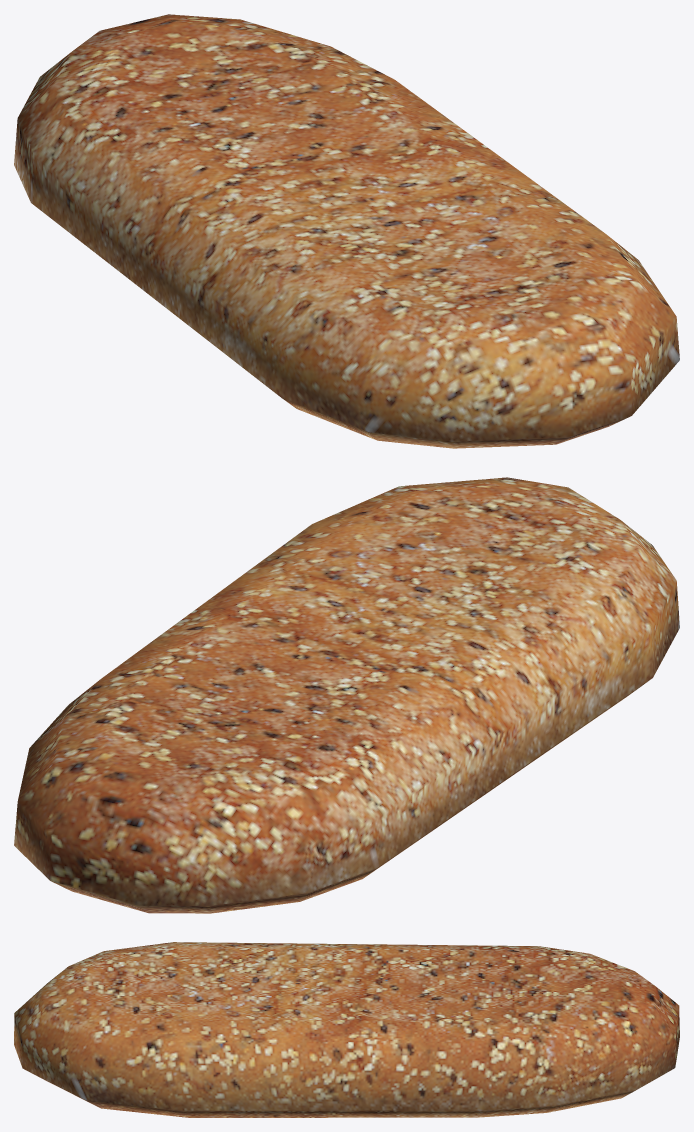
File: Bread_02.fbx
The picture shows the model from 3 angles, top to bottom: view 1: azimuth 30°, elevation 25°; view 2: azimuth 150°, elevation 25°; view 3: azimuth 270°, elevation 25°; orthographic projection. The views are drawn at different scales.
Parts seen in each view (by area): view 1: Bread_02_LOD0; view 2: Bread_02_LOD0; view 3: Bread_02_LOD0.
Boxes of the visible parts, x1,y1,x2,y2 form: Bread_02_LOD0: (14, 14, 679, 448); Bread_02_LOD0: (14, 477, 679, 913); Bread_02_LOD0: (14, 942, 679, 1117).
Size of what is drawn, in the model's own units: 14.3 by 4.06 by 31.88.
